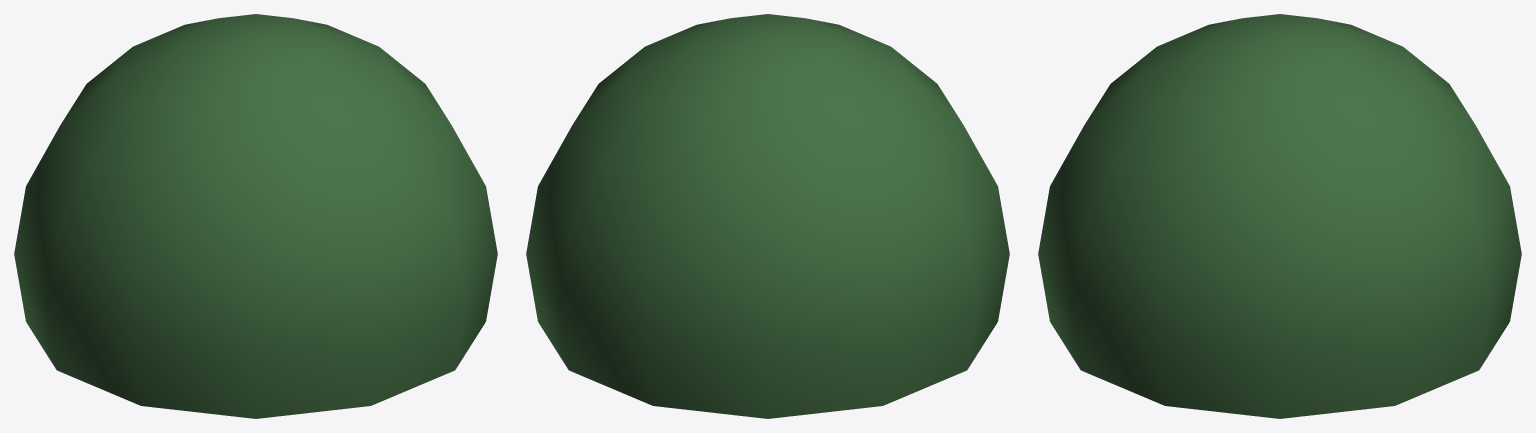
Rendered from arbre03.fbx.
3 views of the same model, side by side, from view 1: azimuth 30°, elevation 25°; view 2: azimuth 150°, elevation 25°; view 3: azimuth 270°, elevation 25° (orthographic).
Visible parts, largest first — view 1: arbre03; view 2: arbre03; view 3: arbre03.
Boxes of the visible parts, x1=… form: arbre03: x1=14, y1=14, x2=497, y2=418; arbre03: x1=526, y1=14, x2=1009, y2=418; arbre03: x1=1038, y1=14, x2=1521, y2=418.
Size of the model in its own units: 1.52 by 0.9953 by 1.52.
